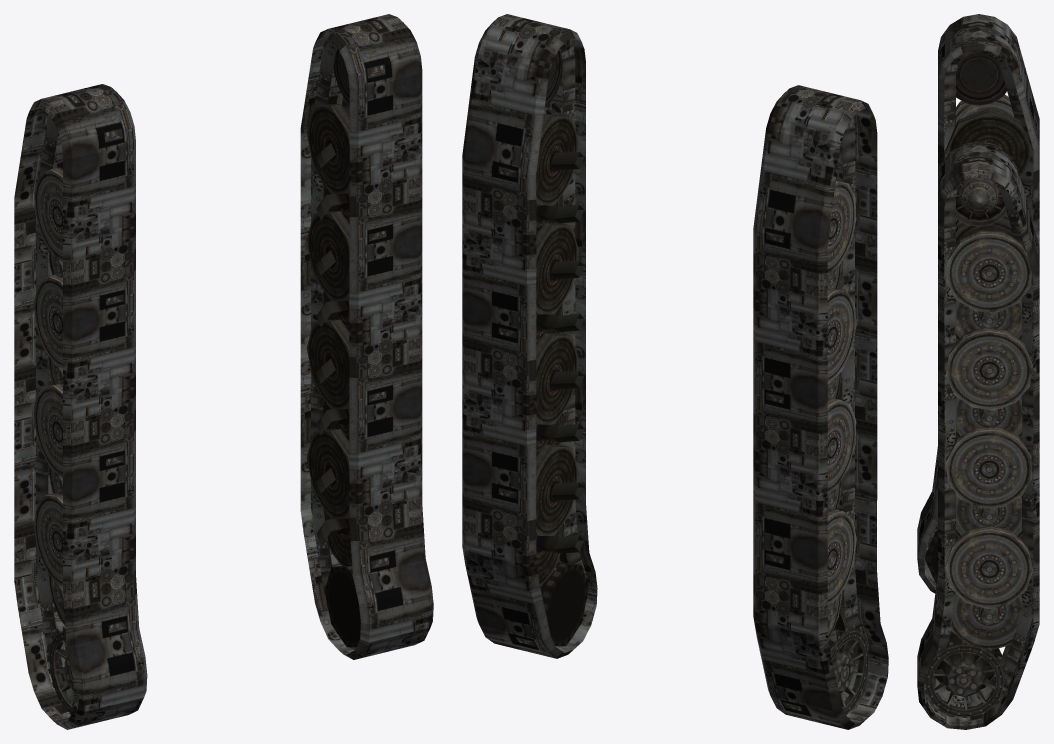
File: Chassis.obj
3 views of the same model, side by side, from view 1: azimuth 30°, elevation 25°; view 2: azimuth 150°, elevation 25°; view 3: azimuth 270°, elevation 25° (orthographic). The views are drawn at different scales.
Parts seen in each view (by area): view 1: 3D_Object_2, 3D_Object_1, 3D_Object_3, 3D_Object_4; view 2: 3D_Object_2, 3D_Object_1, 3D_Object_3, 3D_Object_4; view 3: 3D_Object_3, 3D_Object_1, 3D_Object_2, 3D_Object_4.
Part boxes in pixels (bbox=[...]): 3D_Object_2: bbox=[14, 84, 147, 729]; 3D_Object_1: bbox=[300, 14, 433, 659]; 3D_Object_3: bbox=[306, 49, 360, 647]; 3D_Object_4: bbox=[34, 167, 74, 714]; 3D_Object_2: bbox=[753, 85, 888, 729]; 3D_Object_1: bbox=[462, 14, 597, 658]; 3D_Object_3: bbox=[536, 49, 588, 646]; 3D_Object_4: bbox=[827, 180, 869, 714]; 3D_Object_3: bbox=[924, 177, 1033, 717]; 3D_Object_1: bbox=[917, 141, 1039, 729]; 3D_Object_2: bbox=[917, 14, 1039, 593]; 3D_Object_4: bbox=[924, 53, 1033, 584].
Bounding box in the file's own units: 3.57 × 5.86 × 1.16.
Materials: 4 (4 with a texture image).
